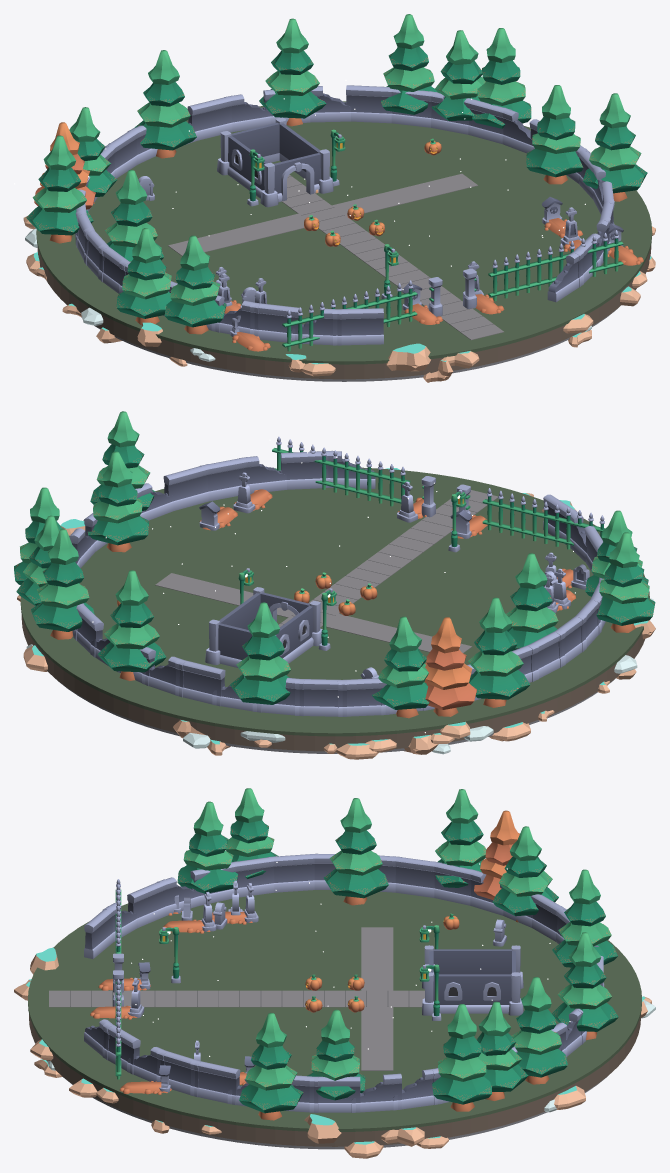
The model's file is graveyard.glb.
3 views of the same model, one above another, from view 1: azimuth 30°, elevation 25°; view 2: azimuth 150°, elevation 25°; view 3: azimuth 270°, elevation 25° (orthographic). The views are drawn at different scales.
Visible parts, largest first — view 1: flat-ground, cyl.001, crypt-large.001, flat-path, flat-path.001, pine.007, pine.006, pine.001, pine.004, pine-crooked.005, pine-crooked.001, pine-crooked.002 (+32 smaller); view 2: flat-ground, cyl.001, crypt-large.001, flat-path, pine.001, pine.007, pine.005, pine.006, pine-crooked.001, pine-crooked.002, pine-crooked.003, pine-fall-crooked.001 (+36 smaller); view 3: flat-ground, cyl.001, crypt-large.001, flat-path, flat-path.001, pine.002, pine.004, pine.003, pine.007, pine.005, pine-crooked.003, pine-crooked.005 (+32 smaller).
Boxes of the visible parts, x1,y1,x2,y2 form: flat-ground: (36, 101, 652, 364); cyl.001: (37, 245, 651, 379); crypt-large.001: (217, 117, 333, 207); flat-path: (281, 175, 503, 340); flat-path.001: (168, 173, 477, 256); pine.007: (259, 18, 326, 126); pine.006: (134, 50, 196, 158); pine.001: (26, 135, 93, 243); pine.004: (583, 93, 647, 201); pine-crooked.005: (164, 235, 226, 334); pine-crooked.001: (526, 85, 583, 184); pine-crooked.002: (116, 228, 171, 324); flat-ground: (20, 467, 649, 736); cyl.001: (21, 614, 644, 751); crypt-large.001: (205, 587, 322, 667); flat-path: (278, 490, 498, 627); pine.001: (468, 597, 530, 707); pine.007: (97, 570, 166, 680); pine.005: (30, 529, 94, 639); pine.006: (230, 602, 290, 704); pine-crooked.001: (87, 451, 148, 552); pine-crooked.002: (596, 532, 655, 632); pine-crooked.003: (372, 616, 429, 718); pine-fall-crooked.001: (424, 617, 476, 716); flat-ground: (28, 890, 641, 1131); cyl.001: (29, 1014, 640, 1146); crypt-large.001: (422, 945, 523, 1015); flat-path: (49, 990, 424, 1007); flat-path.001: (361, 927, 393, 1070); pine.002: (323, 798, 388, 905); pine.004: (239, 1012, 303, 1120); pine.003: (432, 1004, 491, 1111); pine.007: (552, 932, 618, 1040); pine.005: (511, 977, 567, 1084); pine-crooked.003: (492, 826, 558, 922); pine-crooked.005: (177, 801, 238, 893).
Bounding box in the file's own units: 70.88 × 22.59 × 71.06.
Materials: 60 (16 with a texture image).
